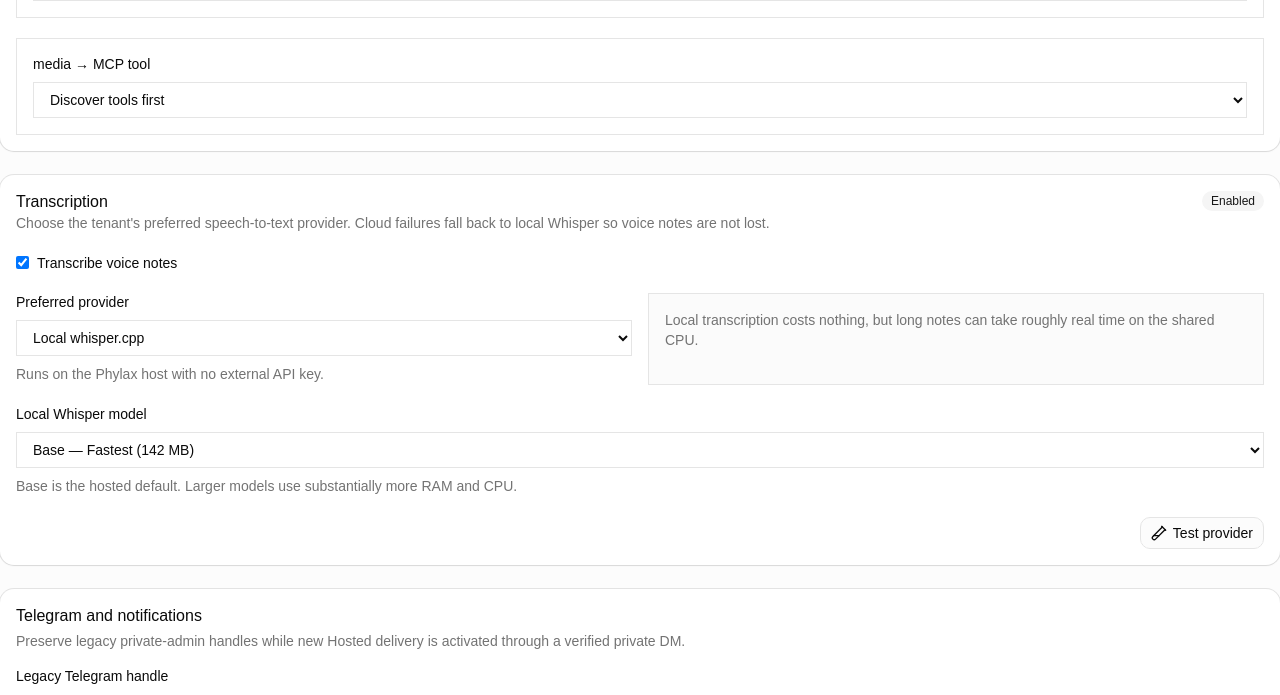
Test: Phylax tenant transcription settings › shows validated local models and the OpenRouter transcription catalog
The width and height of the screenshot is (1280, 695).
(page scrolled)
Expected: the dropdown labelled "Local Whisper model" shows "Base — Fastest (142 MB)", [16,432,1264,468]
Select "OpenRouter" in the dropdown labelled "Preferred provider" at (324, 338), box [16,320,632,356]
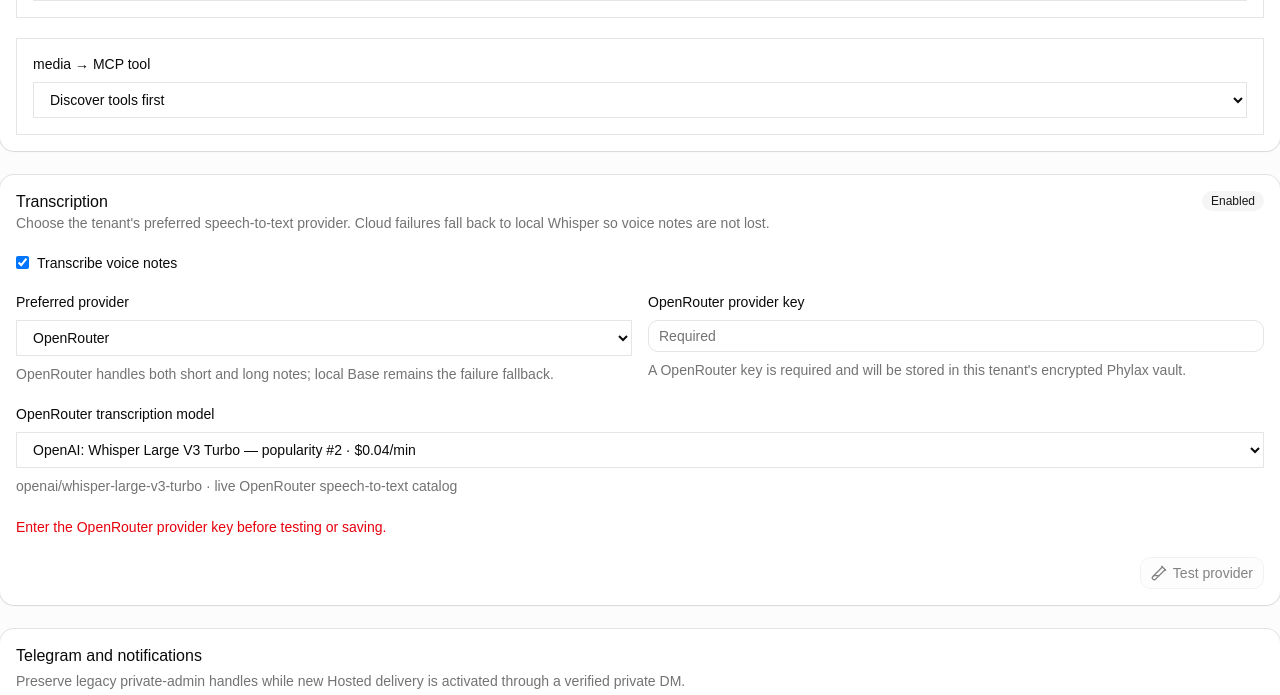
Expected: the dropdown labelled "OpenRouter transcription model" shows "OpenAI: Whisper Large V3 Turbo — popularity #2 · $0.04/min", [16,432,1264,468]
